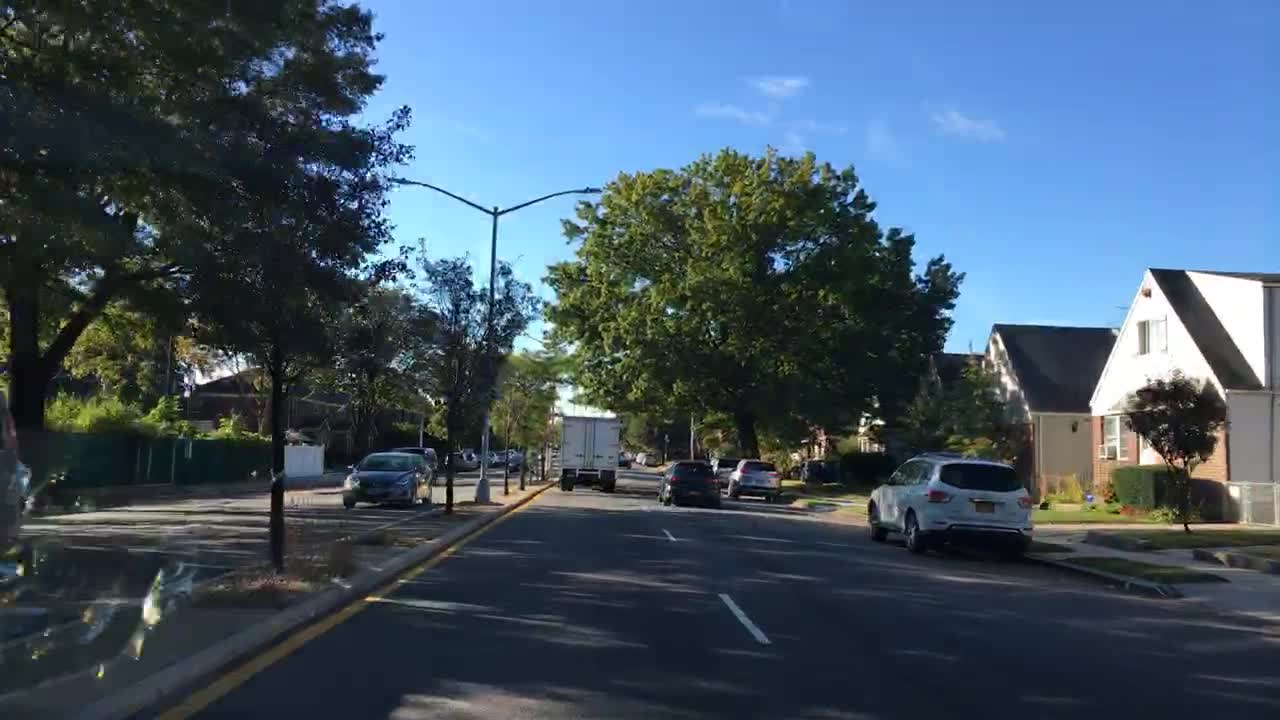car: (864, 449, 1036, 555), (1, 395, 37, 621), (340, 450, 434, 510), (659, 456, 719, 507), (727, 460, 783, 502), (709, 456, 737, 489), (615, 456, 636, 470)
truck: (558, 413, 618, 497), (394, 446, 438, 484), (445, 450, 482, 471), (479, 450, 499, 466), (499, 447, 521, 461), (641, 453, 657, 467)
